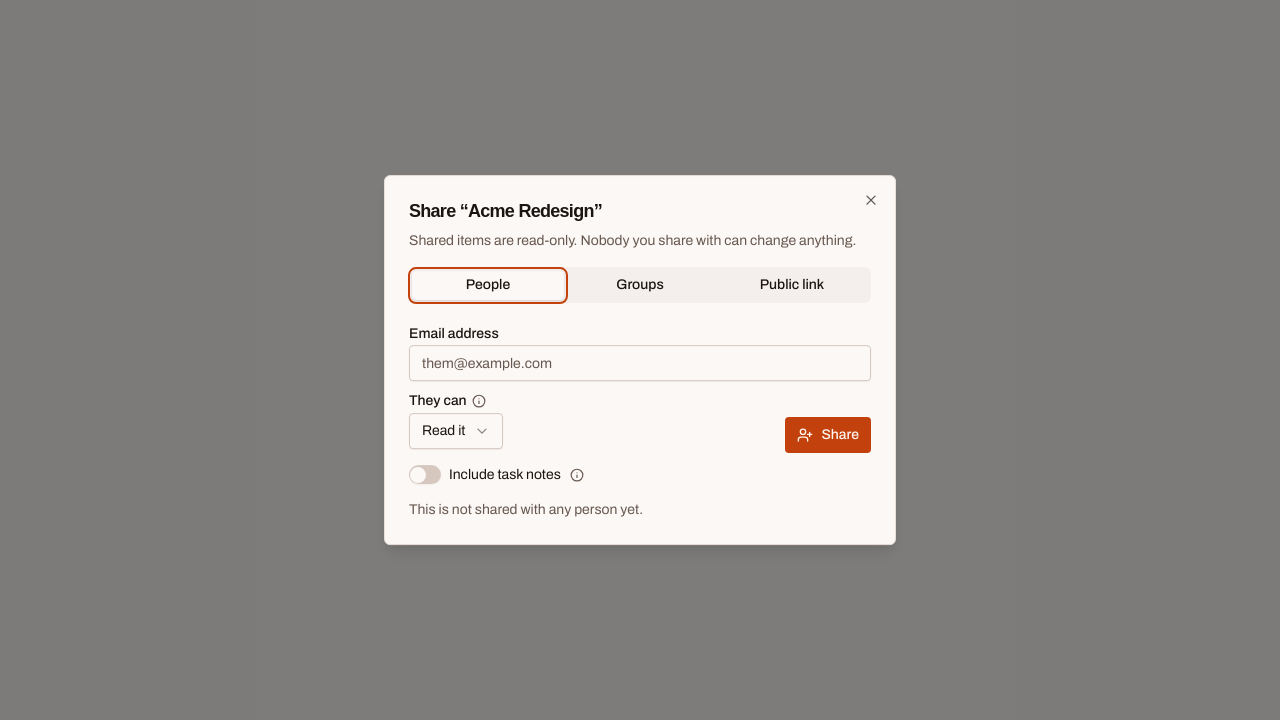
ShareDialog › People tab › renders a share error when the create request itself throws
In the field labelled "Email address": (640, 364) [409,346,871,382], type "friend@example.com"
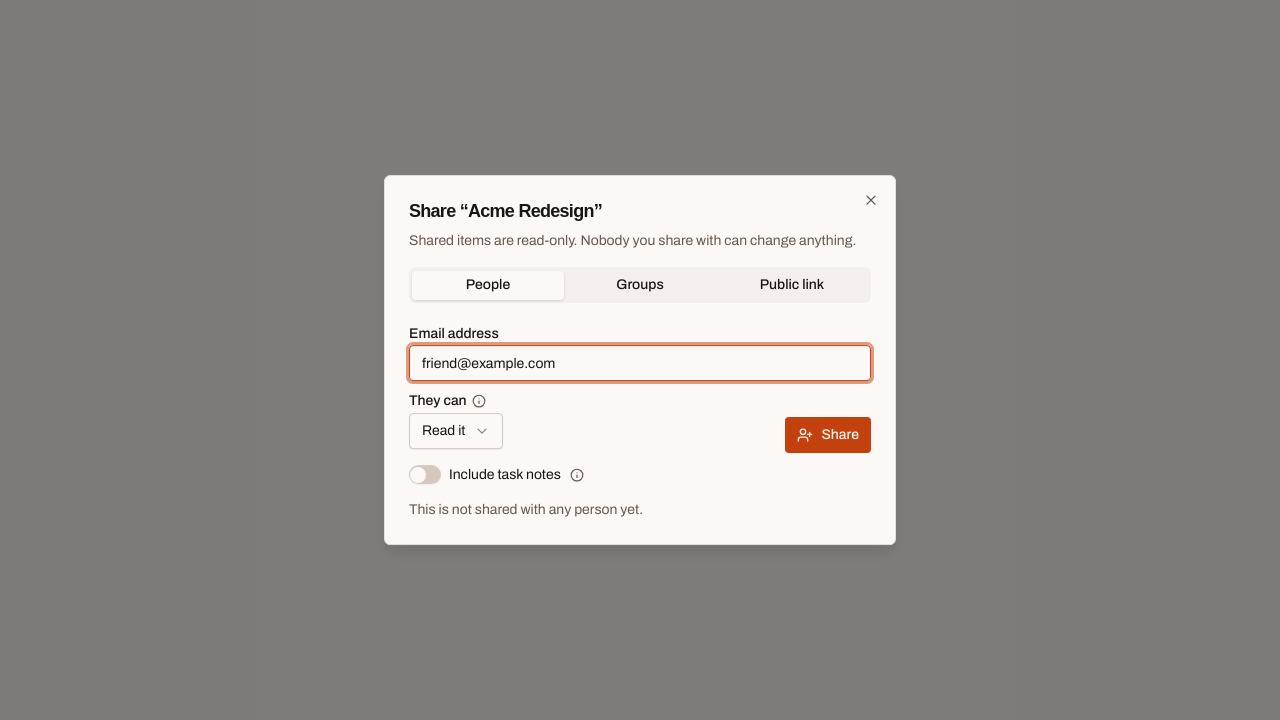
Click the button "Share": (828, 436) [785,418,871,454]
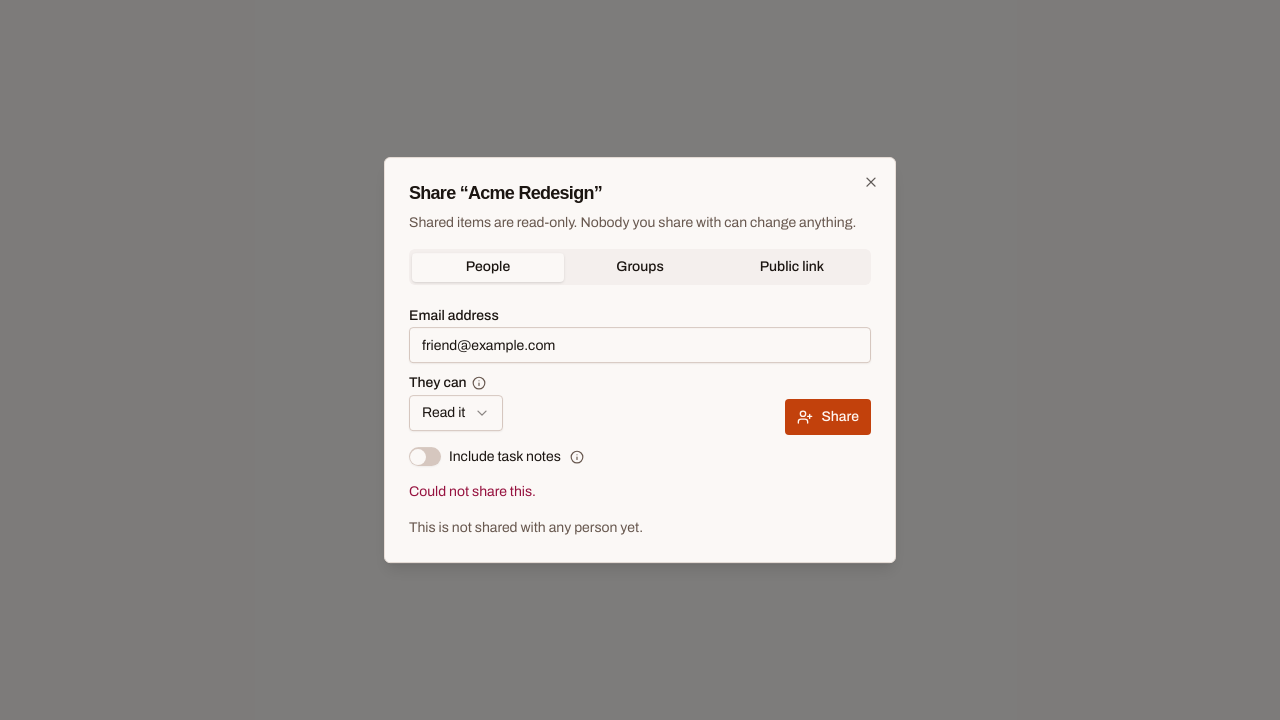
expect the message reads "Could not share this.": met, box [409,484,536,499]
